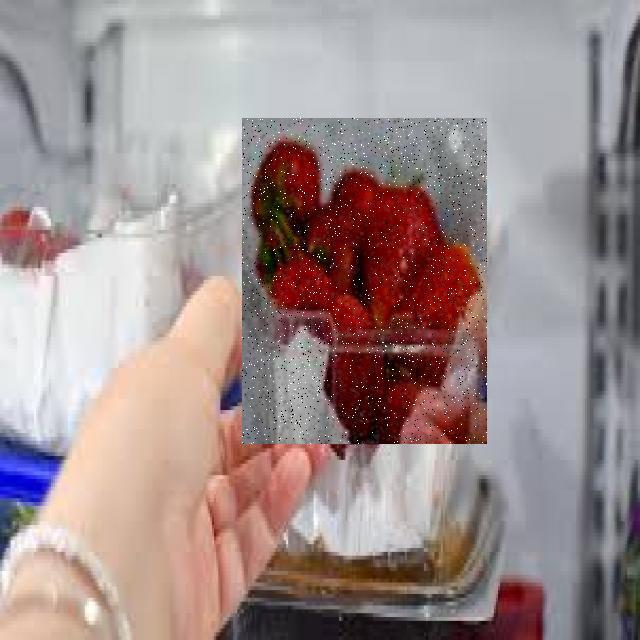Straw Berry: (242, 118, 487, 444)
